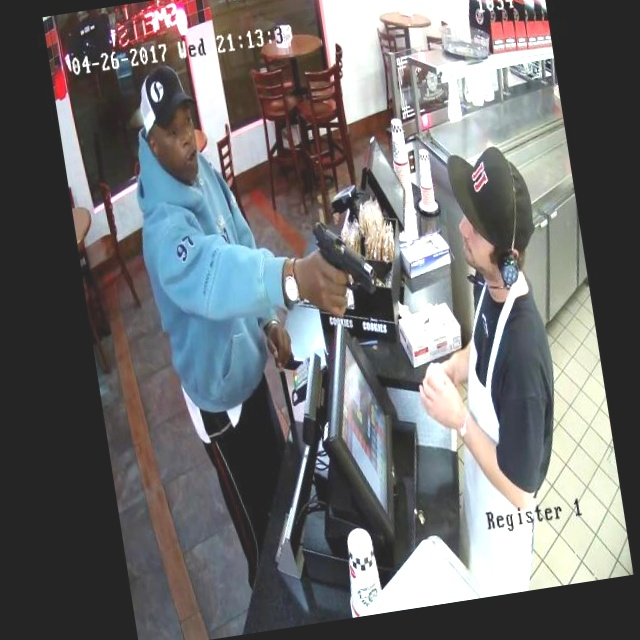gun: (289, 202, 390, 315)
